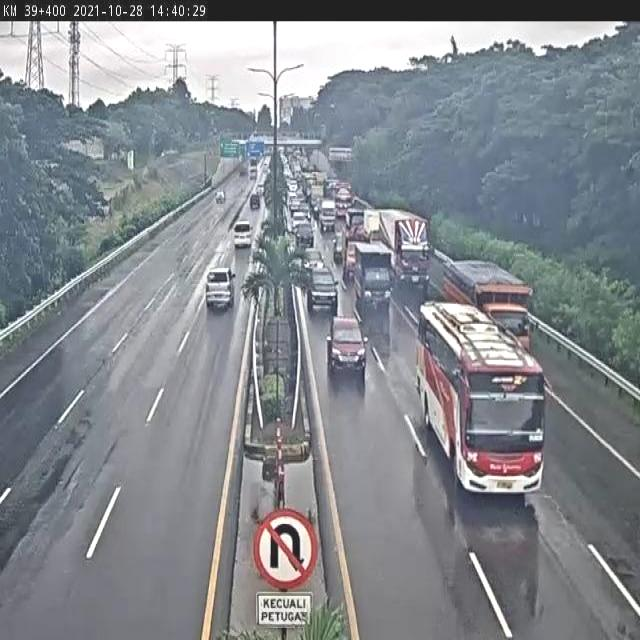Bus: (416, 300, 552, 506)
Car: (325, 313, 370, 380), (305, 266, 341, 318), (295, 222, 318, 250), (250, 193, 260, 211)
Truck: (436, 258, 533, 354), (376, 209, 436, 293), (347, 241, 394, 322), (342, 214, 376, 283), (335, 184, 353, 220), (362, 209, 382, 239), (319, 199, 337, 232)
Van: (204, 266, 238, 312), (233, 220, 253, 250)
